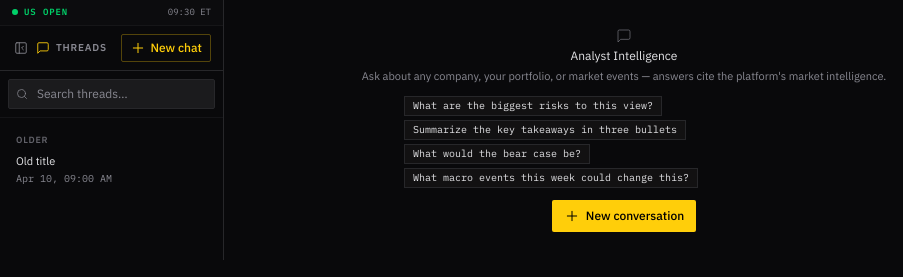
Test: Thread rename › rollback restores old title on PATCH failure
This screenshot has width=903, height=277.
Double-click the text "Old title" at (36, 161), box [16,154,55,168]
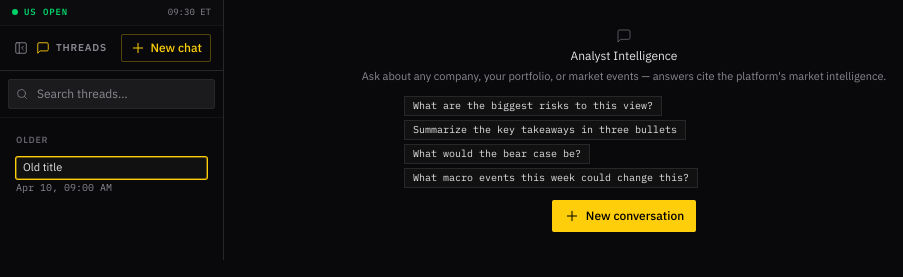
Replace the text in the field named "edit thread title" with "Bad title" at (112, 168), box [16,157,207,179]
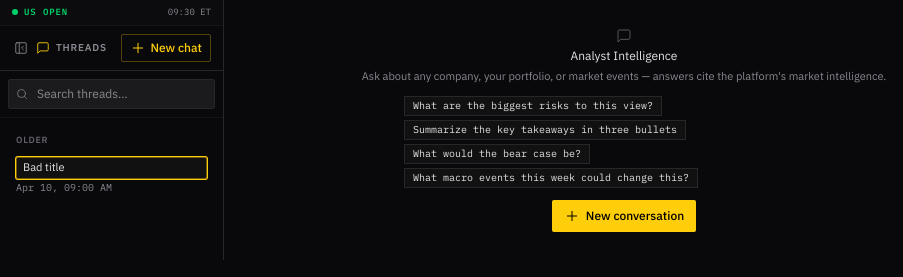
Press Enter in the field named "edit thread title", box [16,157,207,179]
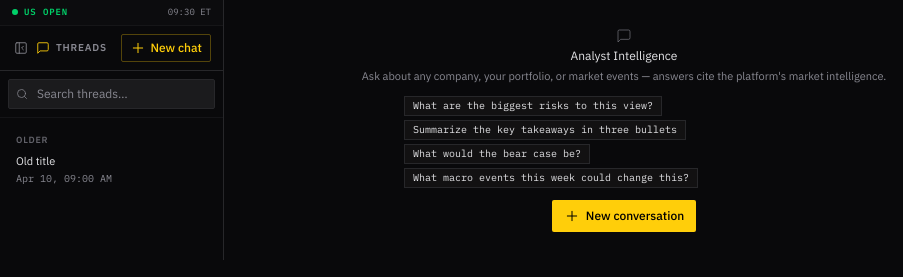
Expected: the text "Bad title" is not shown
Expected: the text "Old title" is shown, [16,154,55,168]
